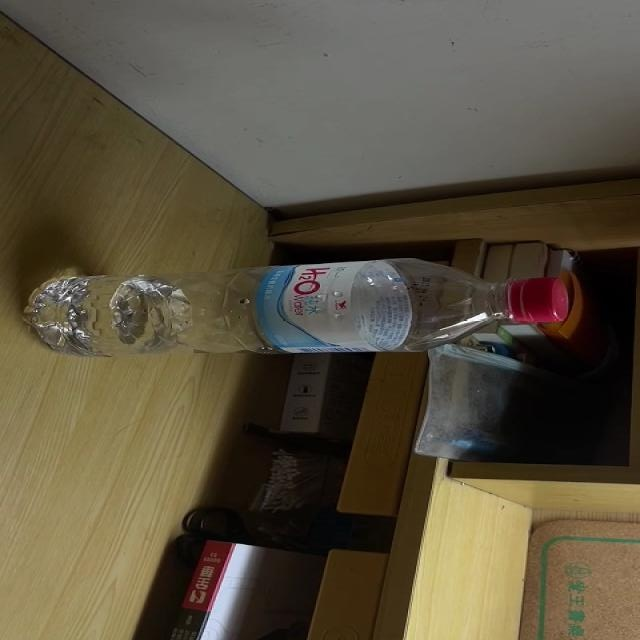Water: (21, 260, 567, 359)
